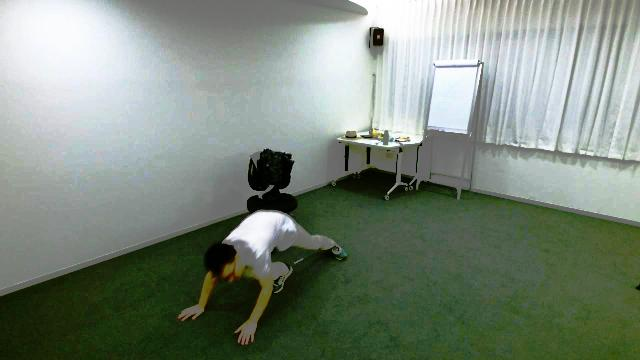jatuh: (174, 207, 346, 355)
